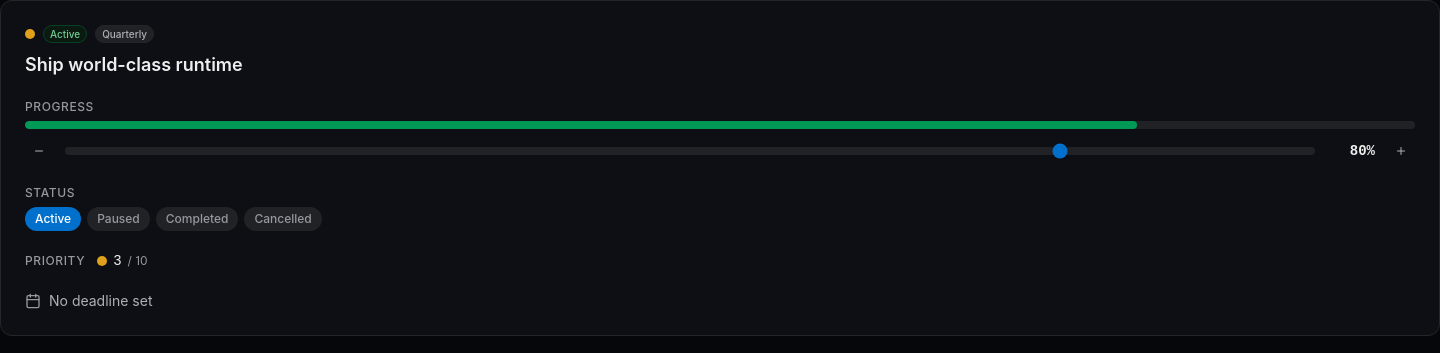
Test: GoalCard › renders fallback copy and syncs local progress after prop changes
Expected: the text "No deadline set" is shown, [49,291,152,311]
Expected: the text "80%" is shown, [1350,143,1375,159]
Click the button named "Decrease progress" at point(39, 151), box [25,137,53,165]
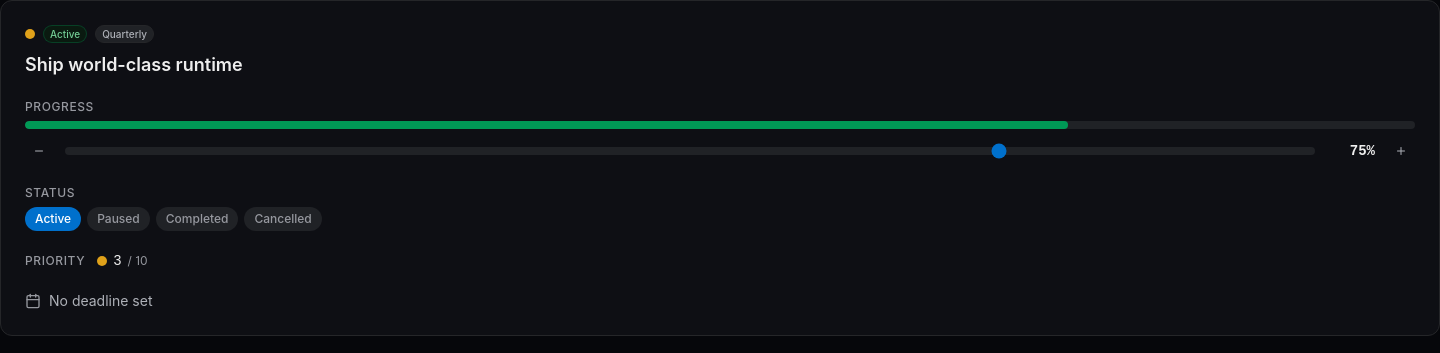
Expected: the text "75%" is shown, [1350,143,1375,159]
